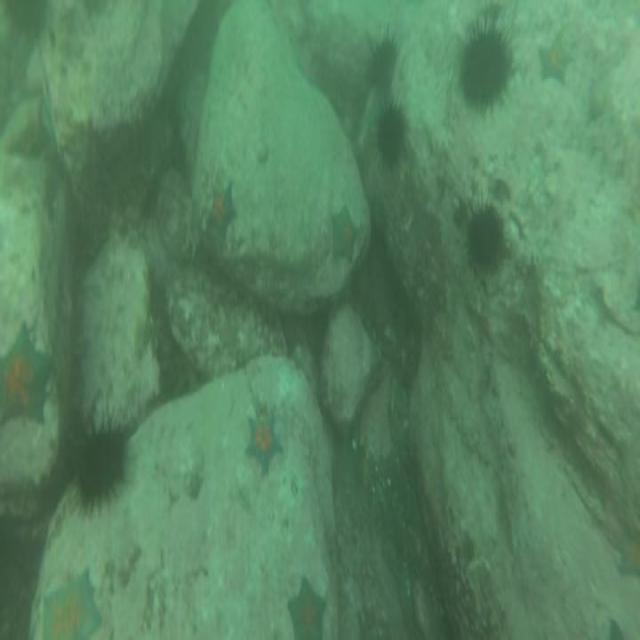echinus: (68, 409, 134, 517), (454, 11, 516, 120), (462, 186, 511, 282), (371, 95, 412, 175), (362, 23, 399, 102)
starfish: (0, 322, 52, 432), (38, 562, 104, 640), (284, 570, 330, 640), (246, 404, 284, 479), (536, 28, 573, 88), (328, 201, 360, 270), (204, 182, 239, 245), (610, 516, 640, 581)
